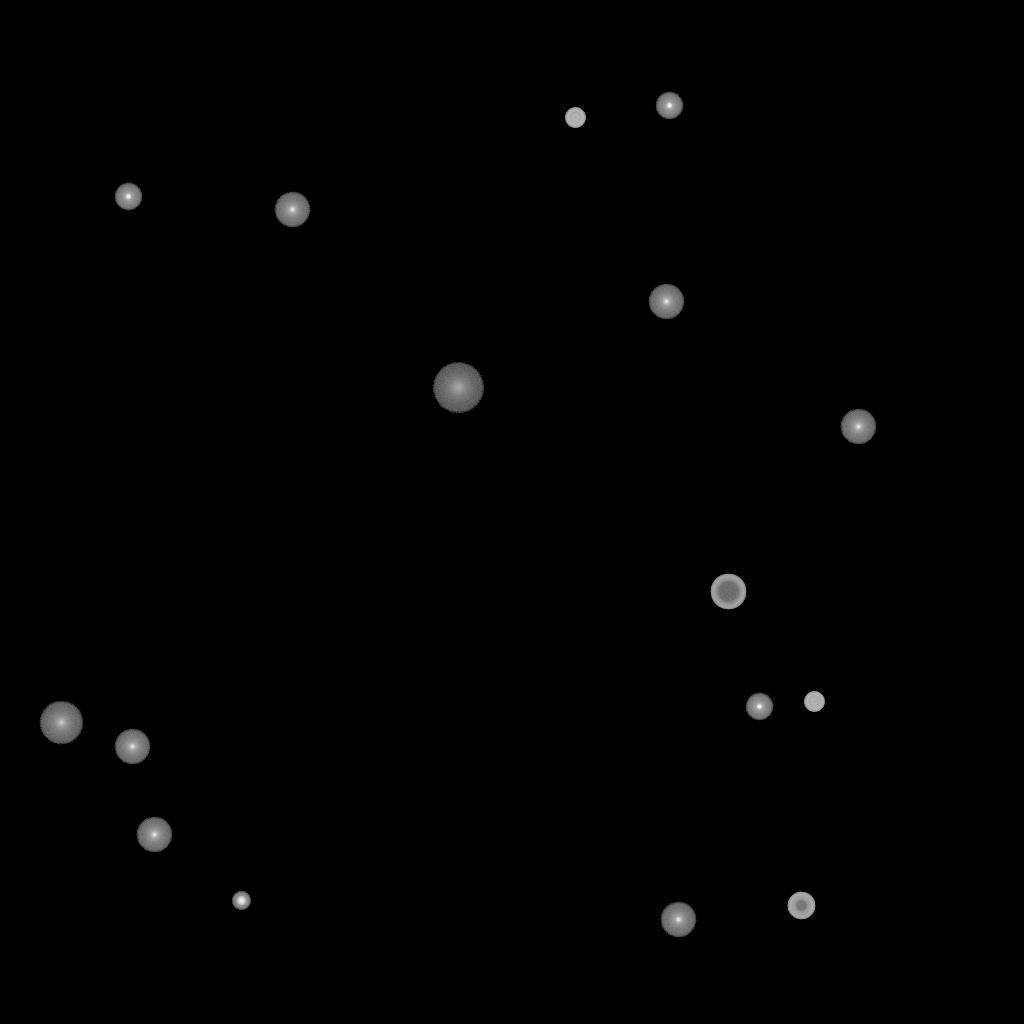depth:-10: (655, 92, 683, 120), (745, 693, 773, 721), (114, 183, 142, 211)
depth:-20: (232, 892, 250, 910)
depth:-40: (565, 108, 585, 128), (804, 692, 824, 712)
depth:-50: (787, 892, 815, 920)
depth:-60: (710, 574, 746, 610)
depth:0: (274, 192, 310, 228), (660, 902, 696, 938), (136, 817, 172, 853), (840, 409, 876, 445), (114, 729, 150, 765), (648, 284, 684, 320)
depth:10: (39, 701, 83, 745)
depth:20: (432, 363, 484, 413)
